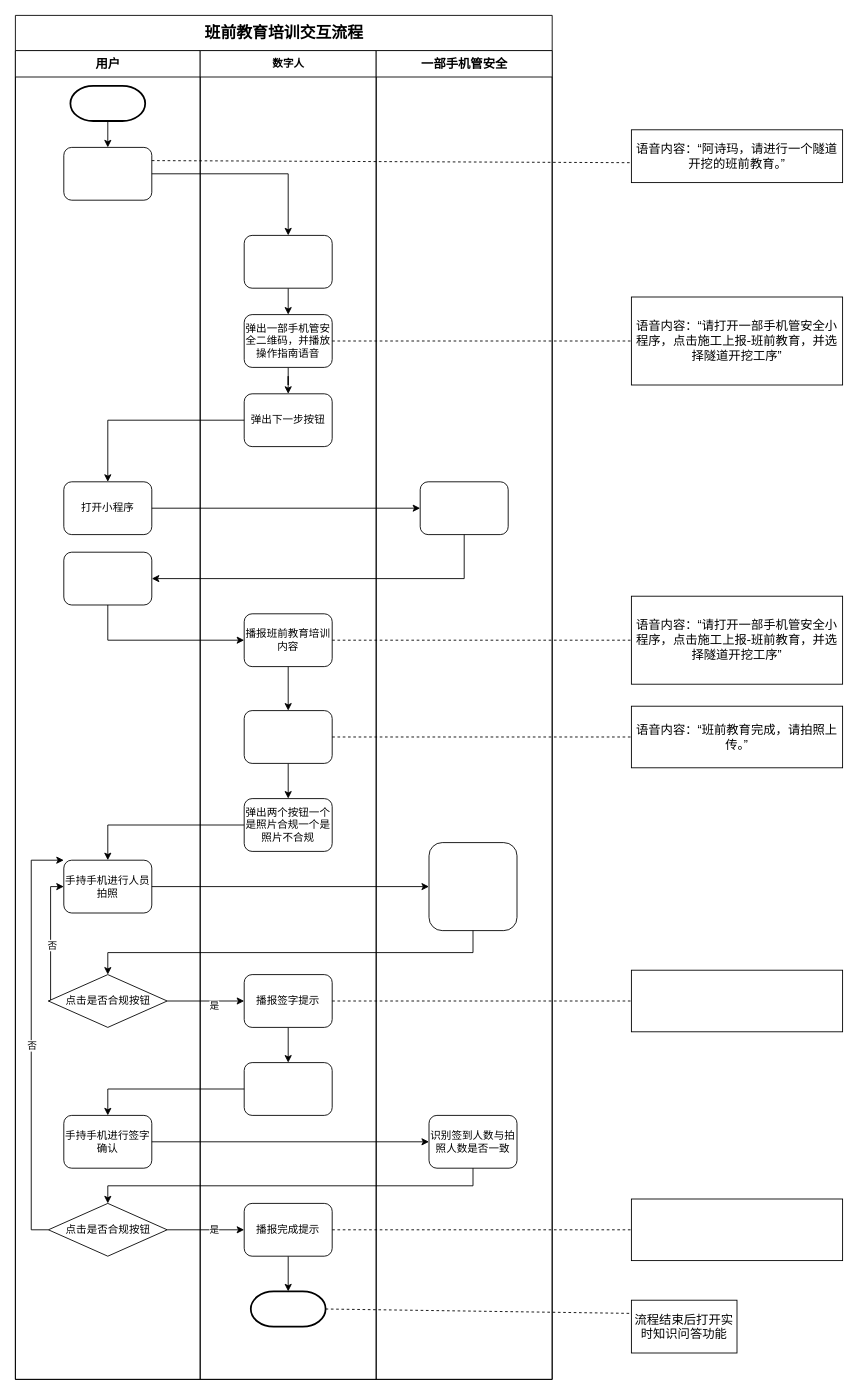
Some shapes in this 858 by 1395 pixel diagram are drawn without their labels. The shapes that lost their labels are listed below. From the top down, each one's centre as x and y in pixels, then its label:
[107,102]: 开始
[107,173]: 通过语音下达 班前教育指令
[287,261]: 开启班前教育流程 并关闭实时知识问答
[463,508]: 按照提示操作小程序进行班前教育
[107,578]: 点击下一步
[287,736]: 播报班前教育完成
[472,886]: 识别安全帽是否穿戴、反光背心是否穿戴以及培训人员数量，并返回识别结果
[737,1000]: 语音内容： “请参与培训人员签字确认。”
[287,1088]: 弹出两个按钮一个是人员一致一个是人员不一致
[737,1229]: 语音内容： “本次班前教育已完成。”
[287,1308]: 结束
